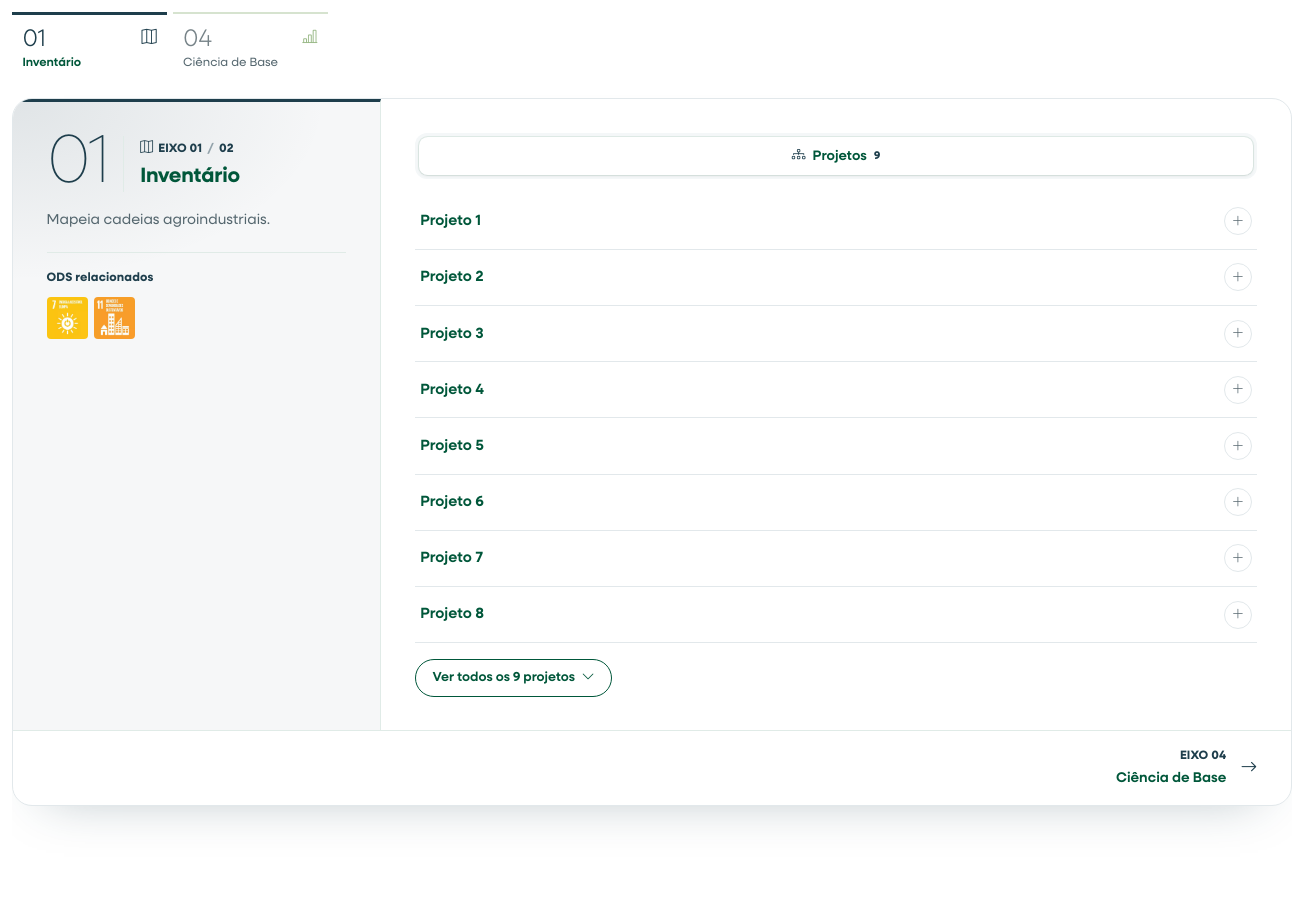
Test: AxisExplorer › moves to the next axis from the pager
Click the button "EIXO 04 Ciência de Base": (1171, 778) [13, 731, 1291, 805]
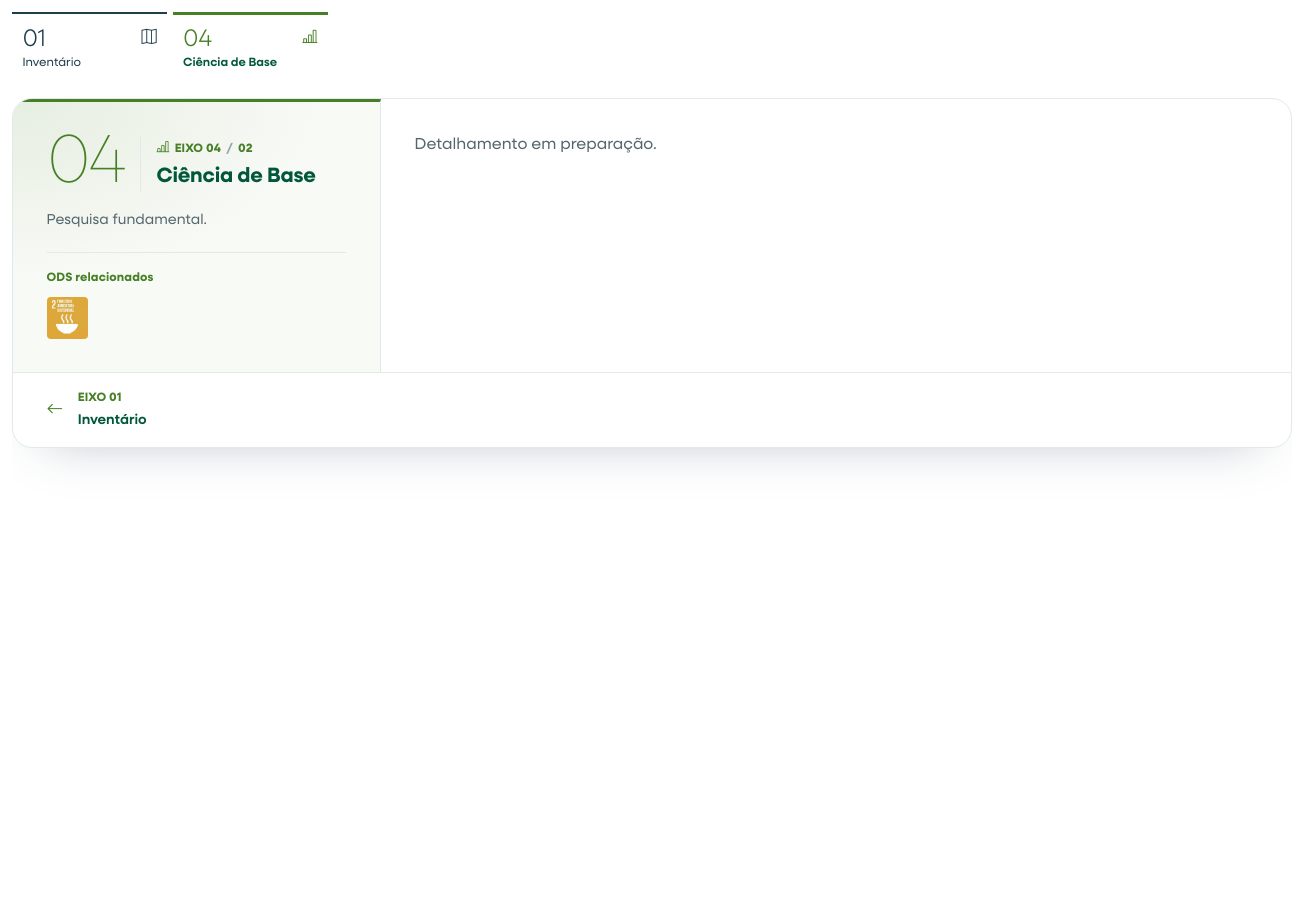
Expected: the tab with class "is-active" shows "Ciência de Base", [173, 12, 328, 85]
Expected: the element with class "axx-head__text" reads "Pesquisa fundamental.", [47, 213, 207, 227]
Expected: the text "Detalhamento em preparação." is shown, [415, 137, 657, 153]
